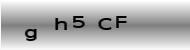5: (71, 15, 85, 28)
C: (98, 16, 111, 30)
F: (115, 15, 128, 29)
g: (23, 28, 37, 41)
h: (52, 17, 67, 30)
